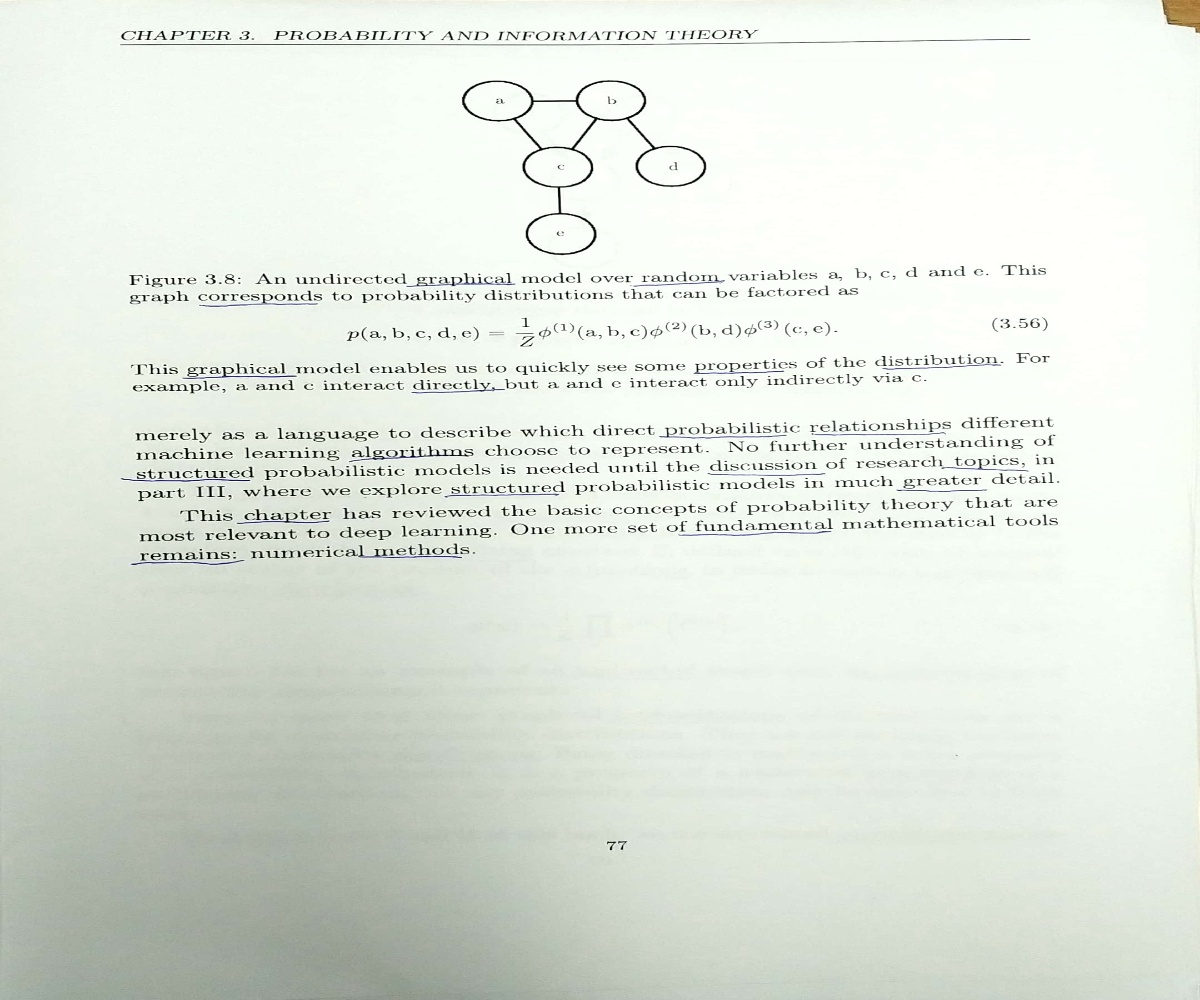underline: (674, 529, 837, 540), (119, 473, 255, 485), (706, 468, 829, 481), (440, 490, 566, 501), (125, 558, 250, 569), (355, 551, 466, 563), (939, 461, 1034, 475), (807, 429, 953, 438), (235, 516, 334, 528), (877, 362, 1005, 371), (347, 453, 475, 462), (658, 433, 792, 441), (195, 300, 324, 308), (179, 373, 303, 380), (690, 368, 786, 377), (403, 281, 521, 288), (408, 388, 508, 396), (893, 487, 993, 495), (629, 280, 723, 288)
